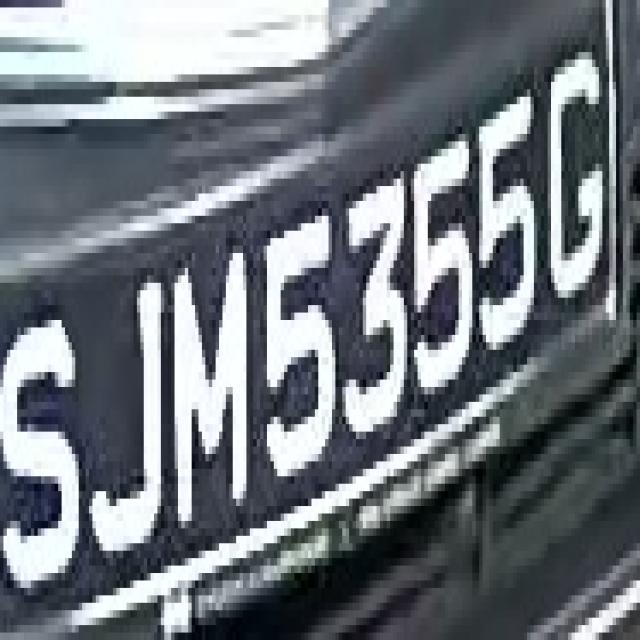3: (332, 171, 421, 469)
5: (254, 223, 342, 484), (404, 134, 482, 409), (466, 82, 538, 365)
G: (537, 60, 616, 312)
J: (96, 261, 168, 558)
M: (164, 231, 264, 536)
S: (3, 305, 89, 618)
